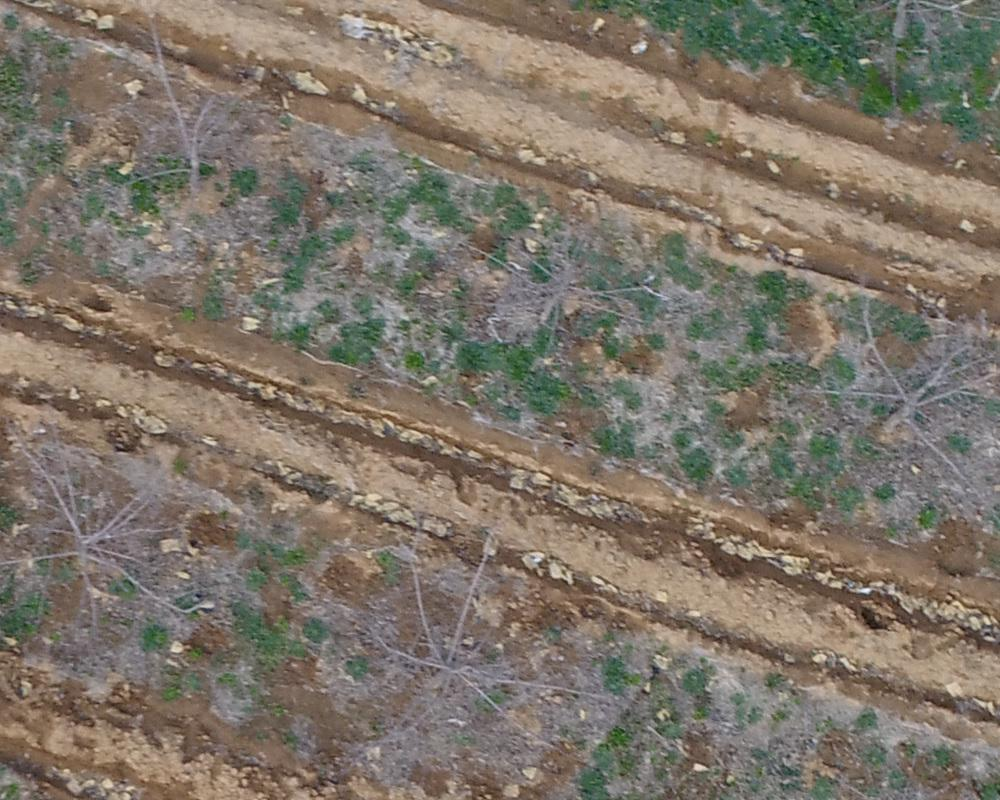apple: (337, 517, 600, 766), (10, 412, 201, 641), (799, 273, 990, 490), (98, 10, 269, 217), (489, 203, 661, 355)
